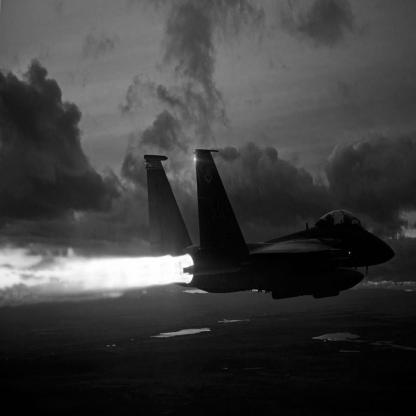F15: (144, 149, 398, 301)
